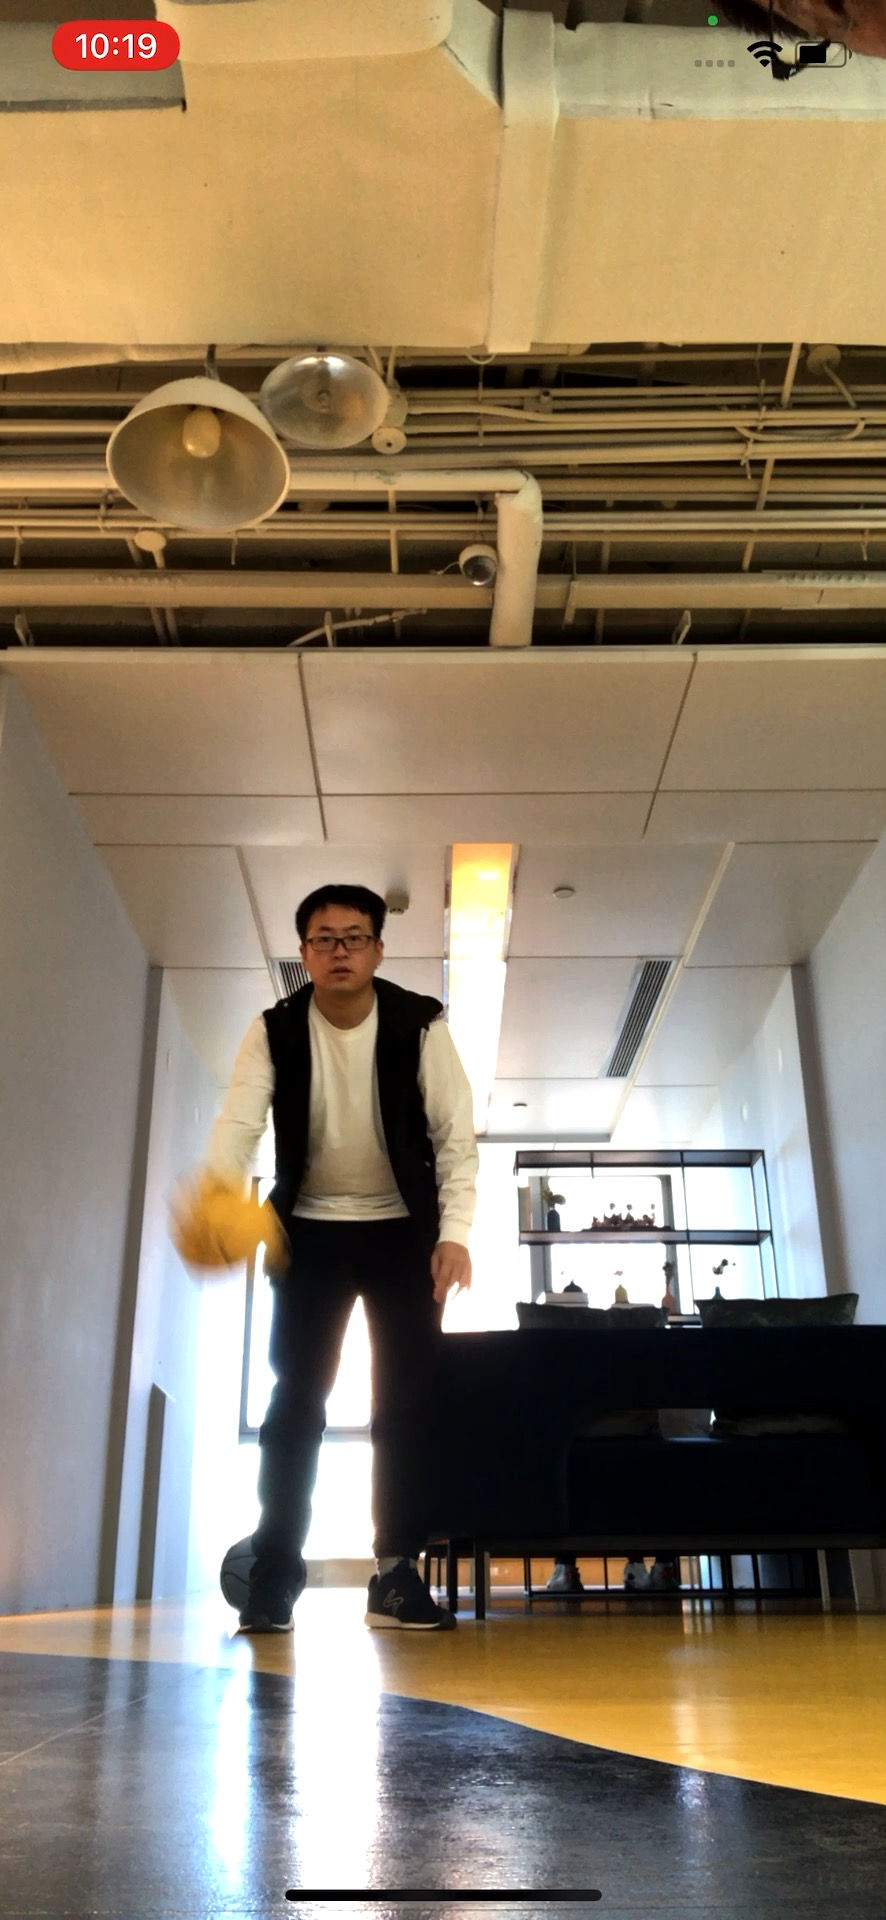ball: (174, 1190, 288, 1284)
